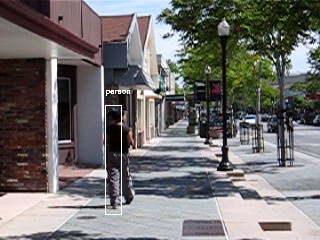person: (104, 107, 135, 207), (103, 107, 134, 207), (105, 107, 136, 207), (104, 106, 135, 206), (104, 108, 135, 208)
target_negative: (42, 36, 64, 188), (214, 139, 276, 166), (154, 29, 164, 180), (215, 208, 318, 213), (117, 224, 280, 227)
